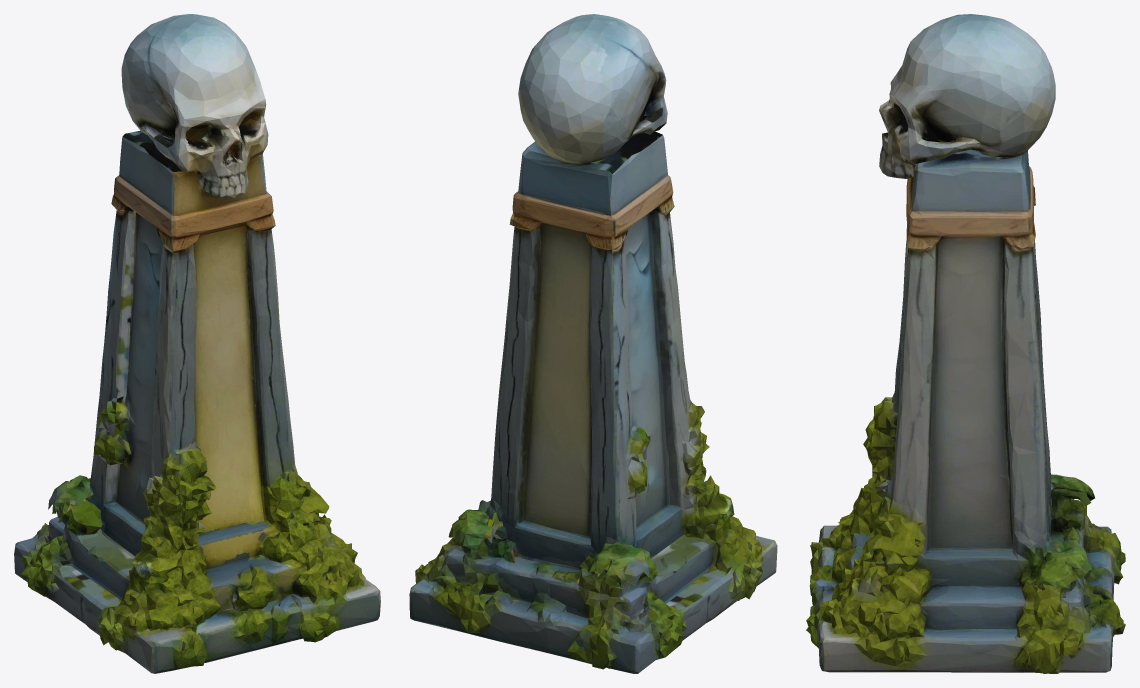
Rendered from skull_tower.glb.
The picture shows the model from 3 angles, left to right: view 1: azimuth 30°, elevation 25°; view 2: azimuth 150°, elevation 25°; view 3: azimuth 270°, elevation 25°; orthographic projection. The views are drawn at different scales.
Size of the model in its own units: 0.9285 by 1.97 by 0.9599.
Materials: 1 (1 with a texture image).
